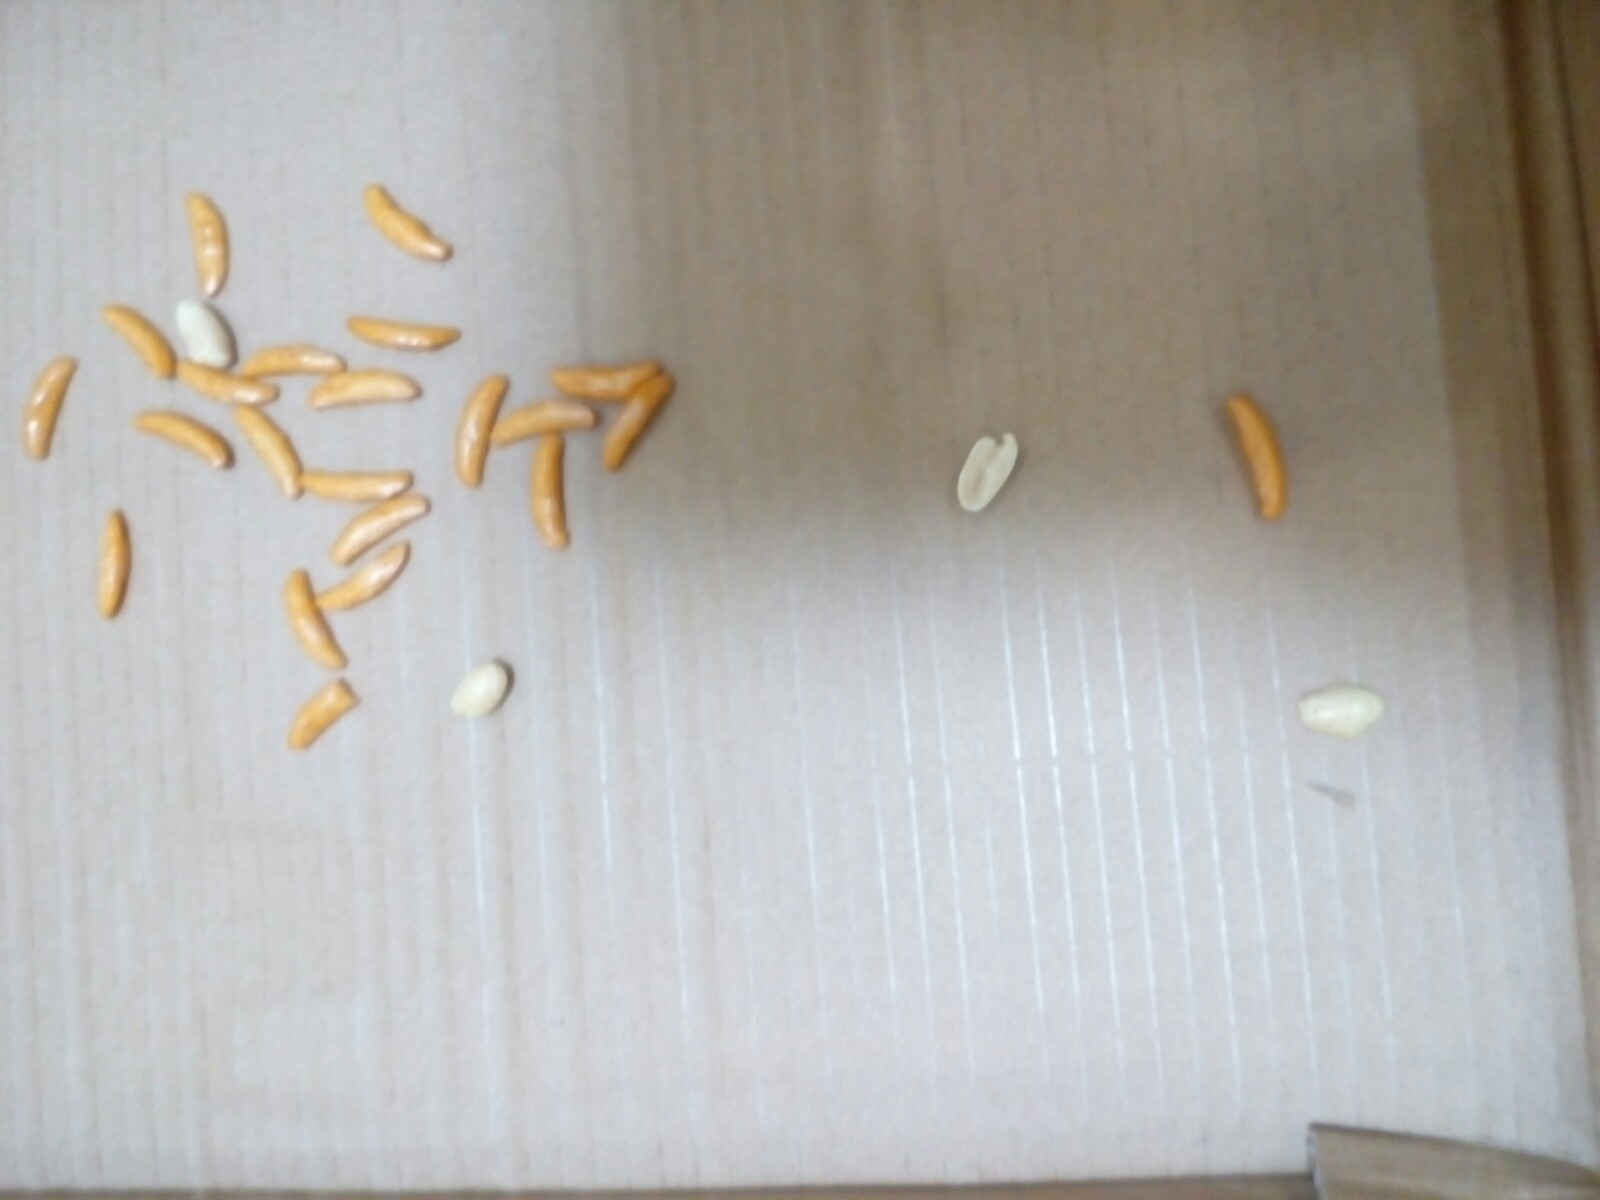peanut: (1279, 671, 1406, 744), (952, 427, 1033, 519), (165, 290, 243, 381), (449, 661, 522, 731)
